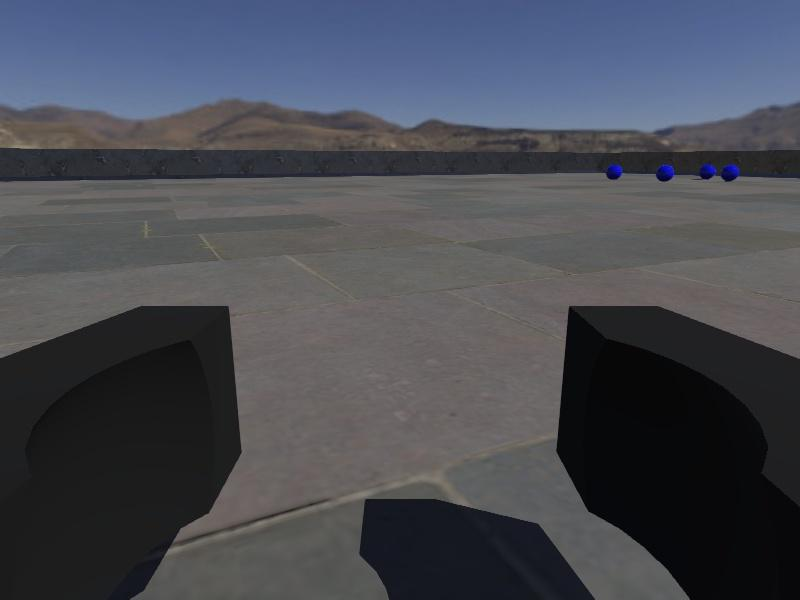blue ball: (655, 162, 675, 182), (698, 162, 716, 181), (721, 163, 739, 182), (605, 162, 622, 182)
